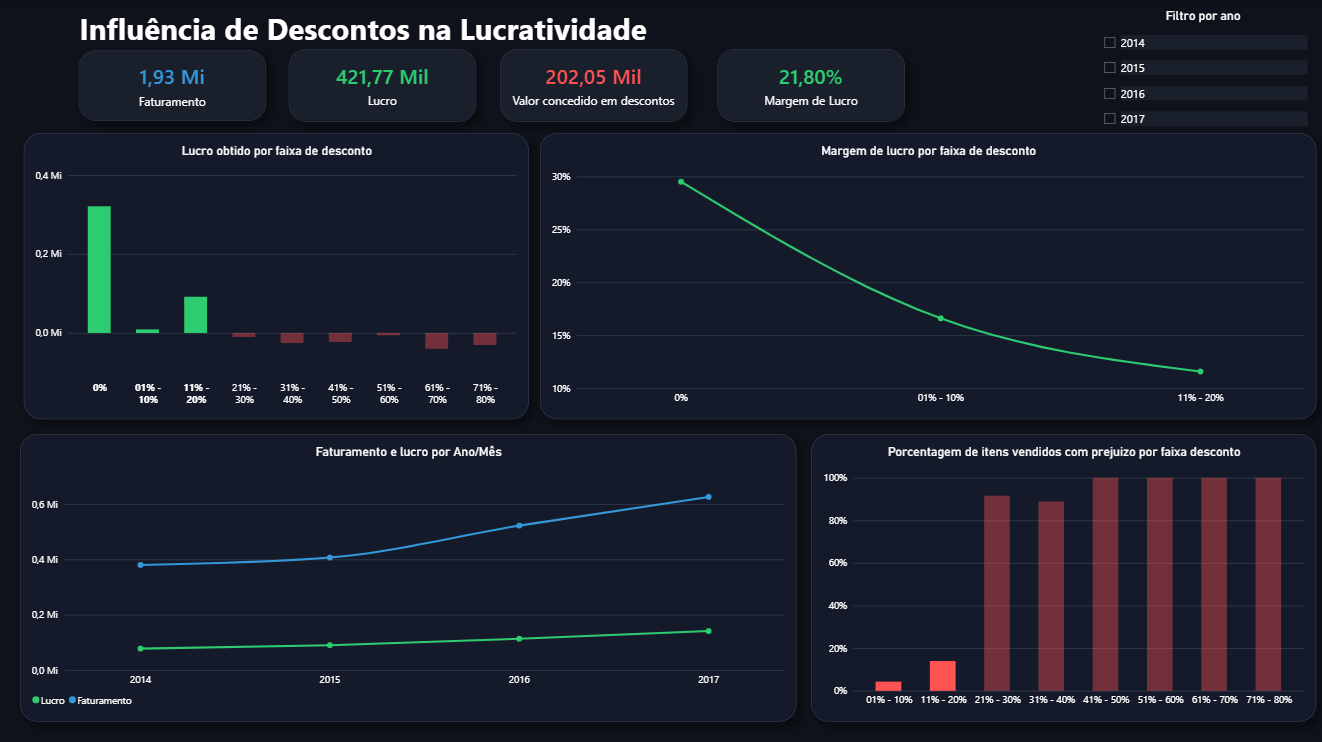

This screenshot's page, from the dashboard's own definition file:
{"tool":"powerbi","page":{"name":"Página 1","canvas":[1920,1080],"ordinal":0},"visuals":[{"type":"cardVisual","fields":{"Data":["Sum(df_final.Profit)"]},"box":[418,74.2,271.4,105],"z":0},{"type":"slicer","title":"Filtro por ano","fields":{"Values":["df_final.Ano"]},"box":[1590.7,14.5,302.2,202.7],"z":1000},{"type":"lineChart","title":"Faturamento e lucro por Ano/Mês","fields":{"Category":["df_final.Ano","df_final.AnoMes"],"Y":["Sum(df_final.Profit)","Sum(df_final.Sales)"]},"box":[29,631.6,1123.8,416.2],"z":2000},{"type":"cardVisual","fields":{"Data":["df_final.Total Desconto"]},"box":[723.9,74.2,271.4,105],"z":3000},{"type":"cardVisual","fields":{"Data":["df_final.Margem Lucro"]},"box":[1038.7,74.2,271.4,105],"z":4000},{"type":"columnChart","title":"Lucro obtido por faixa de desconto","fields":{"Category":["df_final.Faixa Desconto"],"Y":["Sum(df_final.Profit)"]},"box":[34.4,195.4,731.1,414.4],"z":5000},{"type":"columnChart","title":"Porcentagem de itens vendidos com prejuizo por faixa desconto","fields":{"Category":["df_final.Faixa Desconto"],"Y":["df_final.% Itens com Prejuizo"]},"box":[1174.5,631.6,731.1,416.2],"z":6000},{"type":"lineChart","title":"Margem de lucro por faixa de desconto","fields":{"Category":["df_final.Faixa Desconto"],"Y":["df_final.Margem Lucro Texto"]},"box":[781.8,195.4,1123.8,414.4],"z":7000},{"type":"cardVisual","fields":{"Data":["Sum(df_final.Sales)"]},"box":[113.6,76,271.4,101.3],"z":8000},{"type":"textbox","box":[0,14.5,1051.4,74.2],"z":9000}]}

Visuals, with their boxes in screenshot pixels (x1, y1, x2, y2), scaled from the page's 1920x1080 canvas onto the 1322x742 screenshot:
cardVisual - Sum(df_final.Profit): locate(288, 51, 475, 123)
"Filtro por ano" slicer: locate(1095, 10, 1303, 149)
"Faturamento e lucro por Ano/Mês" lineChart: locate(20, 434, 794, 720)
cardVisual - df_final.Total Desconto: locate(498, 51, 685, 123)
cardVisual - df_final.Margem Lucro: locate(715, 51, 902, 123)
"Lucro obtido por faixa de desconto" columnChart: locate(24, 134, 527, 419)
"Porcentagem de itens vendidos com prejuizo por faixa desconto" columnChart: locate(809, 434, 1312, 720)
"Margem de lucro por faixa de desconto" lineChart: locate(538, 134, 1312, 419)
cardVisual - Sum(df_final.Sales): locate(78, 52, 265, 122)
textbox: locate(0, 10, 724, 61)
